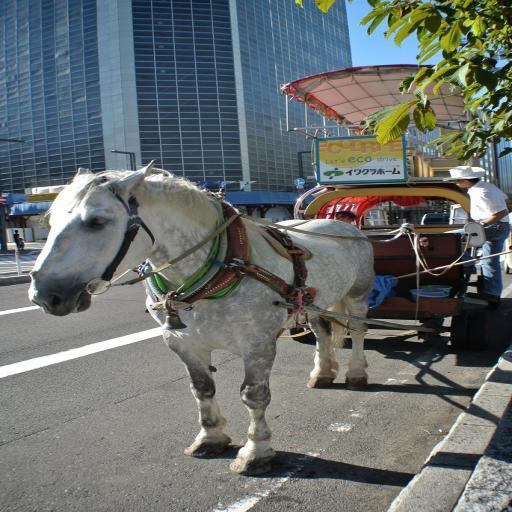horse: (26, 158, 380, 478)
